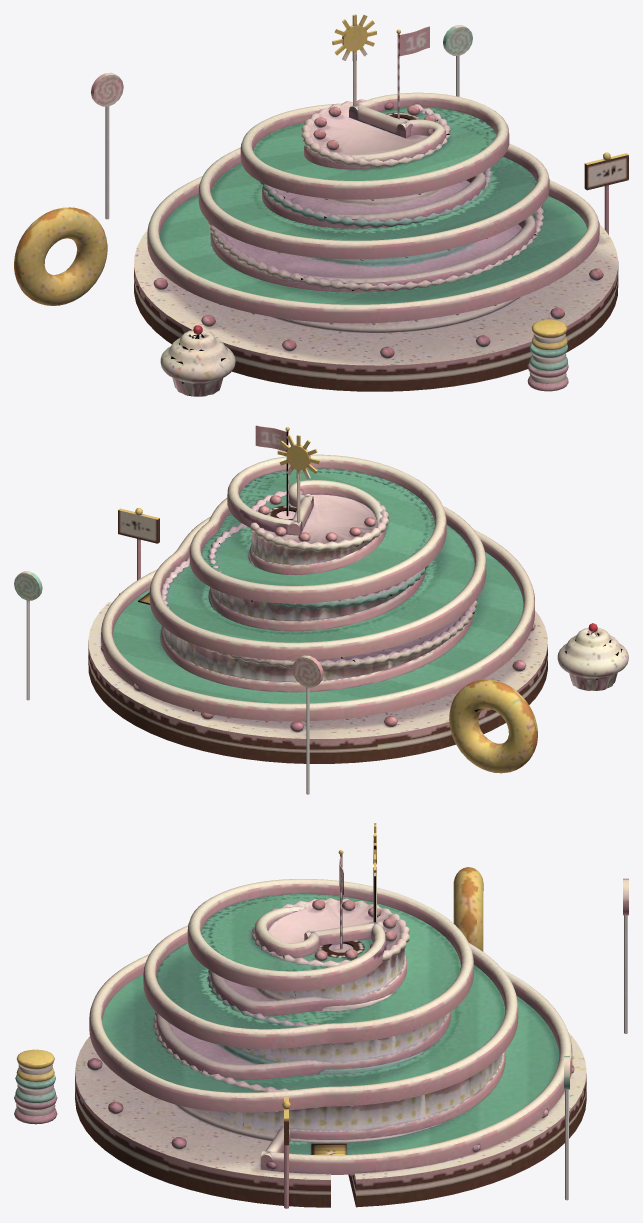
File: hole16.glb
The picture shows the model from 3 angles, top to bottom: view 1: azimuth 30°, elevation 25°; view 2: azimuth 150°, elevation 25°; view 3: azimuth 270°, elevation 25°; orthographic projection. The views are drawn at different scales.
Visible parts, largest first — view 1: Rails, Base, Green, WeddingCake, Decor5, Decor1, Decor2, Roses, HoleSign, Decor3, SunTopper, Flag (+1 smaller); view 2: Rails, Green, Base, WeddingCake, Decor5, Decor1, HoleSign, Roses, Decor3, SunTopper, Decor4, Flag; view 3: Rails, Green, Base, WeddingCake, Decor2, Decor5, Roses, Decor3, Decor4, HoleSign.
Part boxes in pixels (x1,y1,x2,y2): Rails: [147, 92, 599, 323]; Base: [134, 224, 618, 391]; Green: [159, 107, 586, 304]; WeddingCake: [208, 99, 544, 332]; Decor5: [14, 207, 107, 305]; Decor1: [160, 325, 235, 396]; Decor2: [527, 319, 568, 391]; Roses: [153, 100, 603, 358]; HoleSign: [584, 152, 628, 234]; Decor3: [91, 72, 123, 219]; SunTopper: [332, 14, 376, 106]; Flag: [396, 26, 429, 119]; Rails: [101, 454, 534, 721]; Green: [112, 468, 523, 703]; Base: [88, 591, 547, 763]; WeddingCake: [160, 490, 477, 681]; Decor5: [449, 679, 537, 773]; Decor1: [557, 623, 628, 690]; HoleSign: [118, 508, 159, 580]; Roses: [100, 489, 535, 732]; Decor3: [292, 655, 323, 794]; SunTopper: [277, 435, 319, 522]; Decor4: [14, 571, 42, 700]; Flag: [255, 425, 289, 516]; Rails: [89, 879, 572, 1174]; Green: [102, 894, 559, 1154]; Base: [75, 1032, 586, 1207]; WeddingCake: [153, 898, 502, 1142]; Decor2: [14, 1049, 57, 1124]; Decor5: [453, 867, 483, 951]; Roses: [87, 899, 574, 1169]; Decor3: [623, 878, 628, 1033]; Decor4: [564, 1056, 569, 1200]; HoleSign: [282, 1097, 290, 1208].
Size of what is drawn, in the model's own units: 6.52 by 3.08 by 6.25.
1 material, 1 textured.
